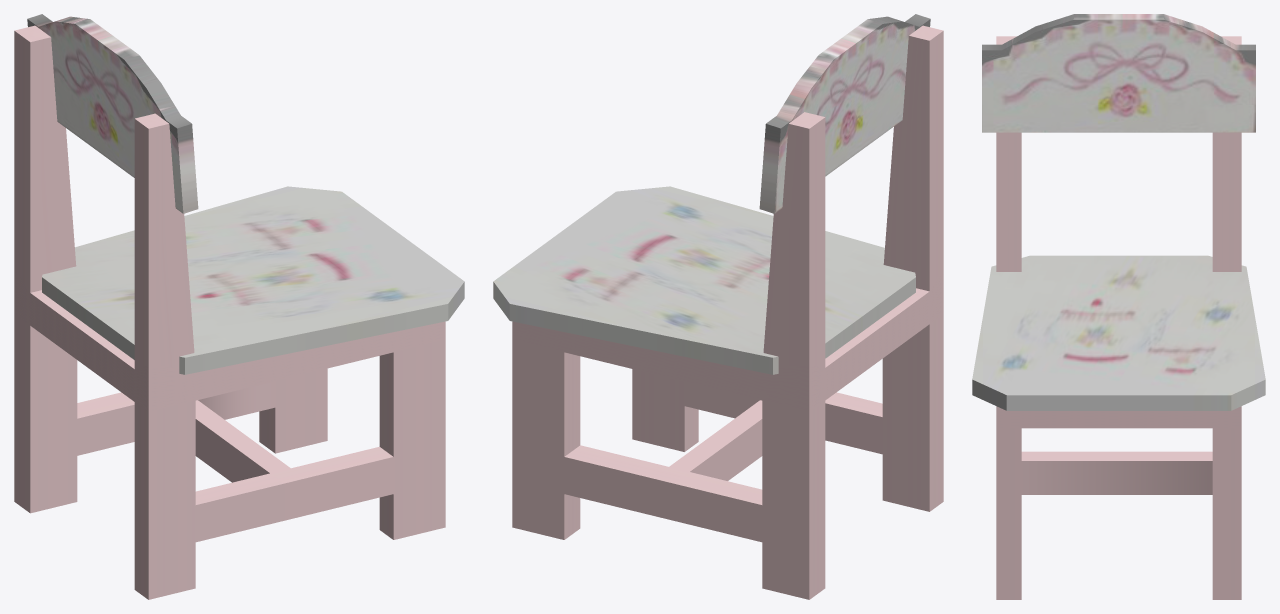
Rendered from kiddie_chair_model.fbx.
3 renders of one model, left to right at view 1: azimuth 30°, elevation 25°; view 2: azimuth 150°, elevation 25°; view 3: azimuth 270°, elevation 25°, orthographic. The views are drawn at different scales.
Visible parts, largest first — view 1: pCube26; view 2: pCube26; view 3: pCube26.
Part boxes in pixels (x1,y1,x2,y2): pCube26: [14, 14, 464, 599]; pCube26: [493, 14, 943, 599]; pCube26: [972, 14, 1265, 599].
Size of the model in its own units: 0.0417 by 0.0626 by 0.036.
